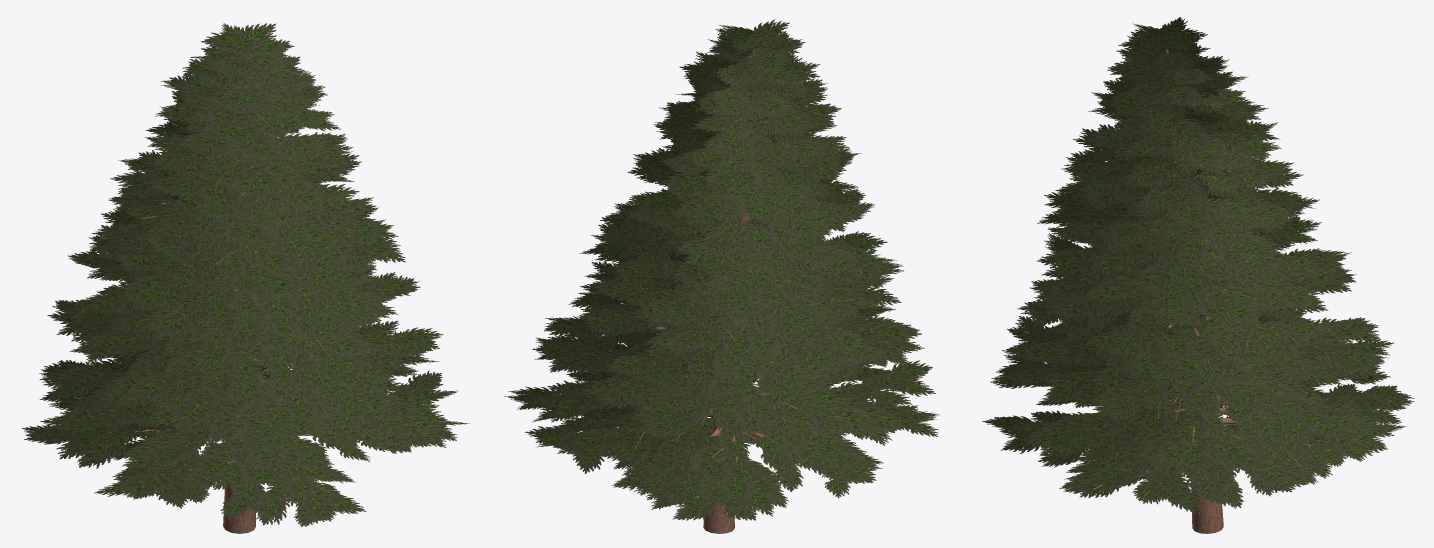
Rendered from tree-cedar.glb.
3 views of the same model, side by side, from view 1: azimuth 30°, elevation 25°; view 2: azimuth 150°, elevation 25°; view 3: azimuth 270°, elevation 25° (orthographic). The views are drawn at different scales.
Visible parts, largest first — view 1: leaves, bark; view 2: leaves, bark; view 3: leaves, bark.
Boxes of the visible parts, left/top/right/bottom form: leaves: left=22, top=23, right=469, bottom=527; bark: left=38, top=39, right=448, bottom=533; leaves: left=505, top=19, right=939, bottom=520; bark: left=531, top=32, right=902, bottom=533; leaves: left=982, top=17, right=1414, bottom=512; bark: left=1024, top=35, right=1396, bottom=533.
Bounding box in the file's own units: 13.6 × 17.23 × 13.97.
2 materials, 2 textured.
